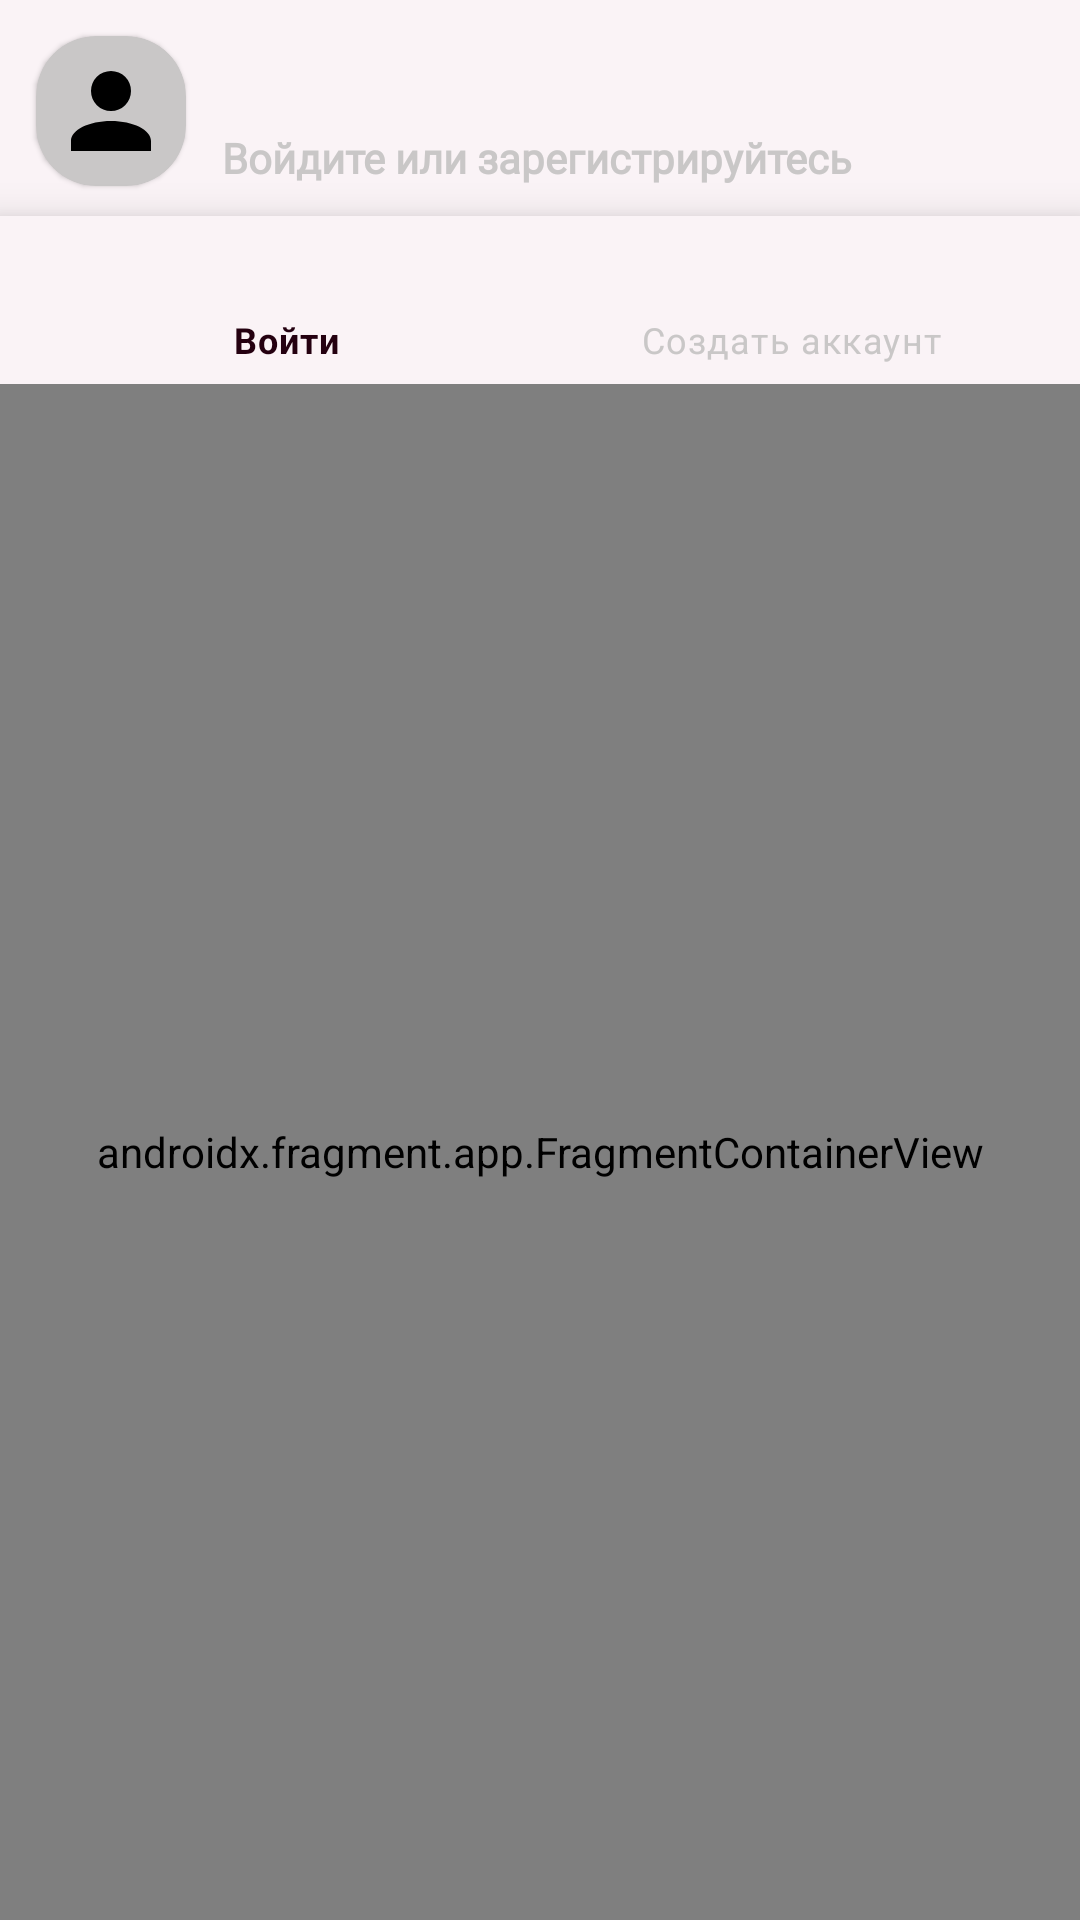

Where to tap for icons on this 1080*1920 app screen, as (x,y):
Профиль: (111,111)
